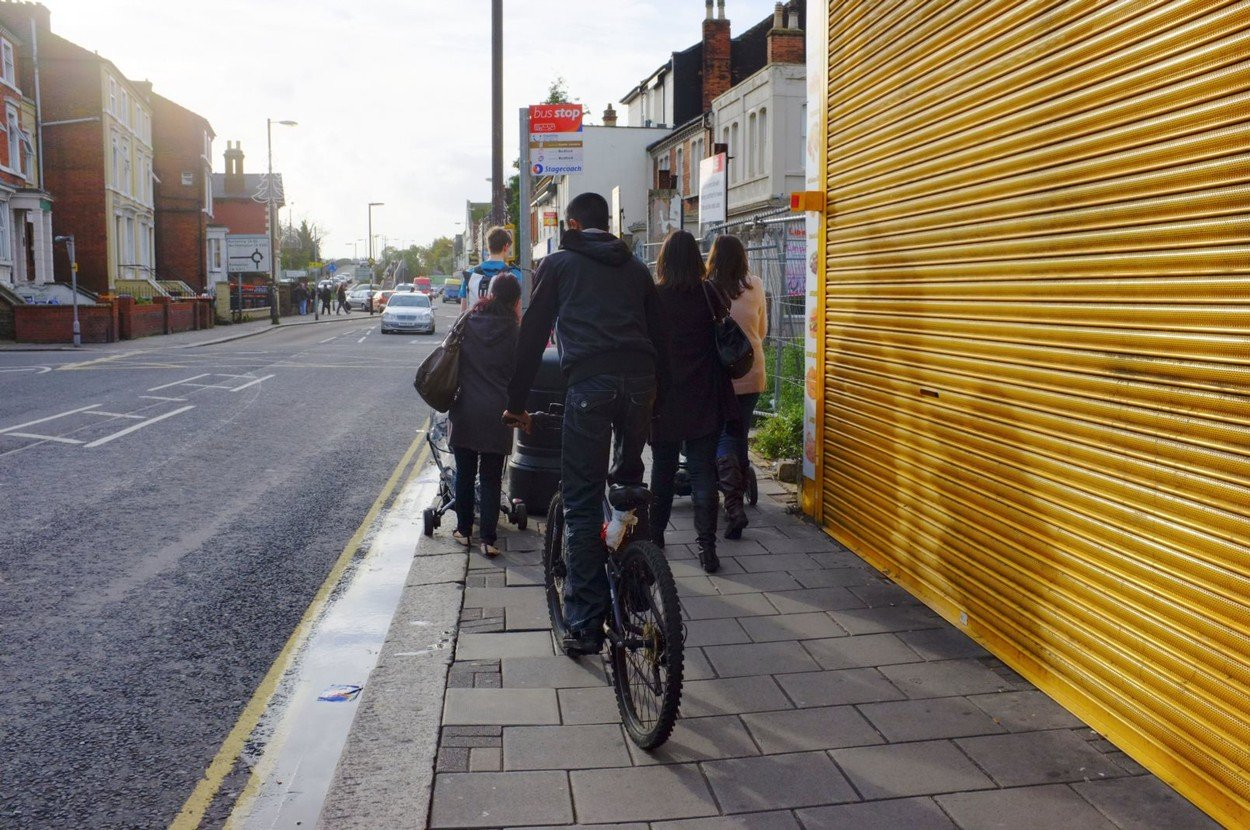Bicycle: (530, 471, 709, 759)
Car: (373, 286, 439, 345)
Person: (533, 202, 662, 626), (437, 272, 525, 559), (712, 247, 769, 526)
